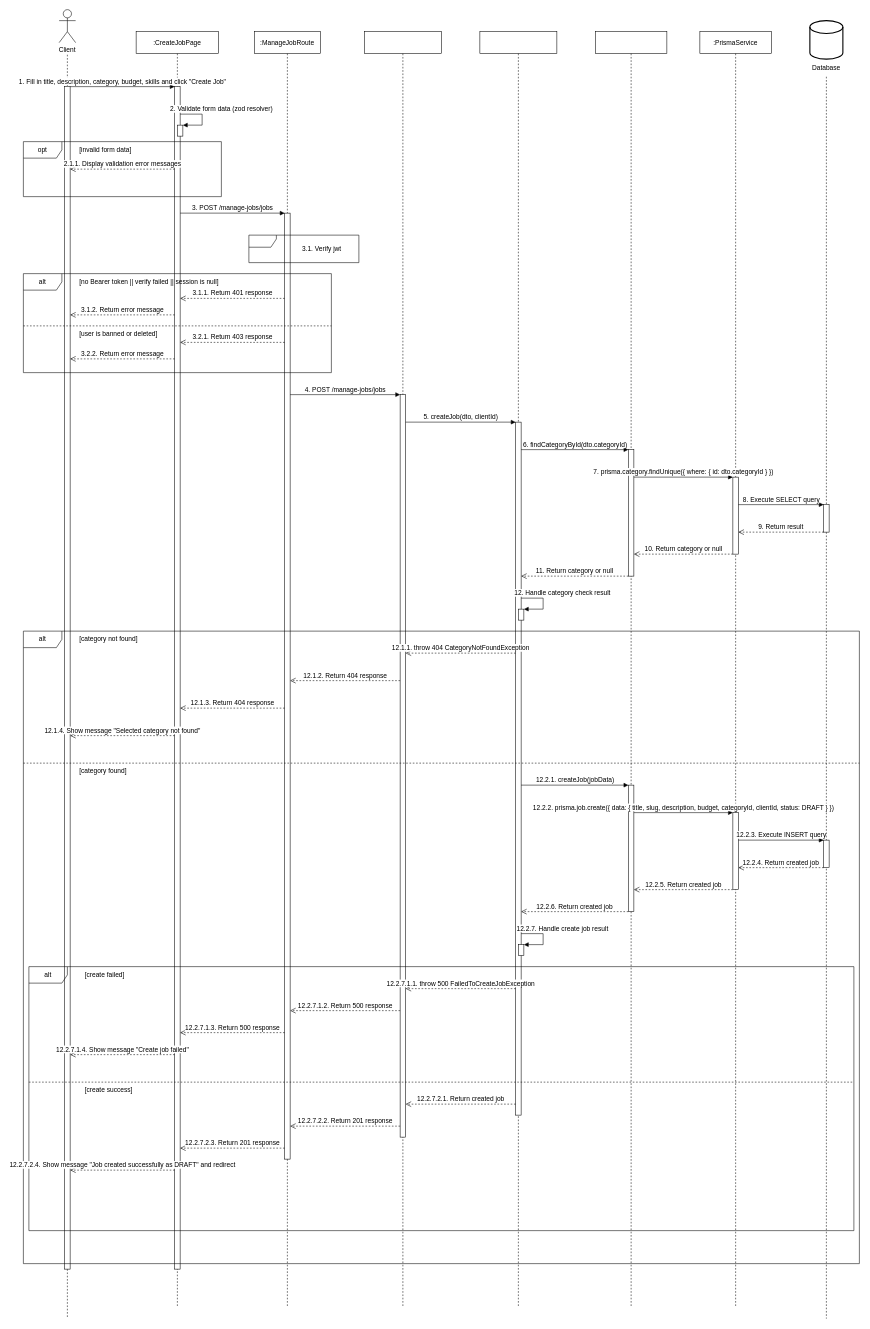
The diagram is 870 pixels wide and 1329 high, and some of its shapes have lost their labels. Here are the shapes that lost their labels. From the top down, the box of each, then its label:
(248, 235, 359, 263): ref
(364, 31, 441, 1308): :ManageJobController
(479, 31, 557, 1308): :ManageJobService
(595, 31, 667, 1308): :ManageJobRepo
